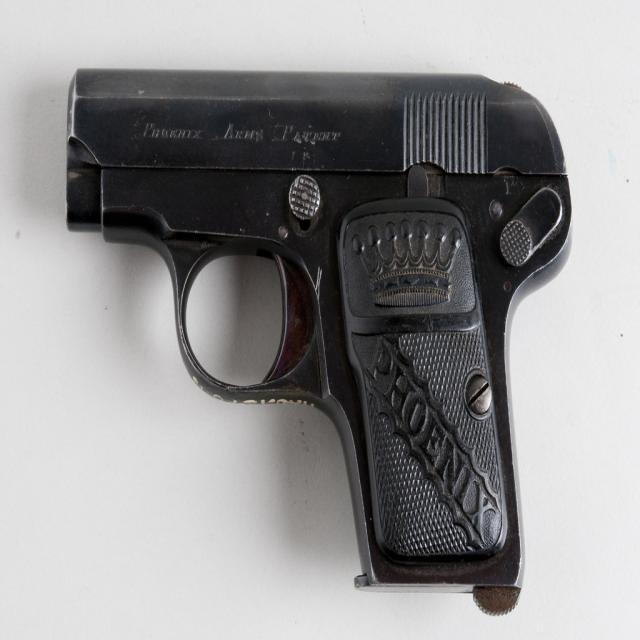Gun: (68, 70, 571, 613)
